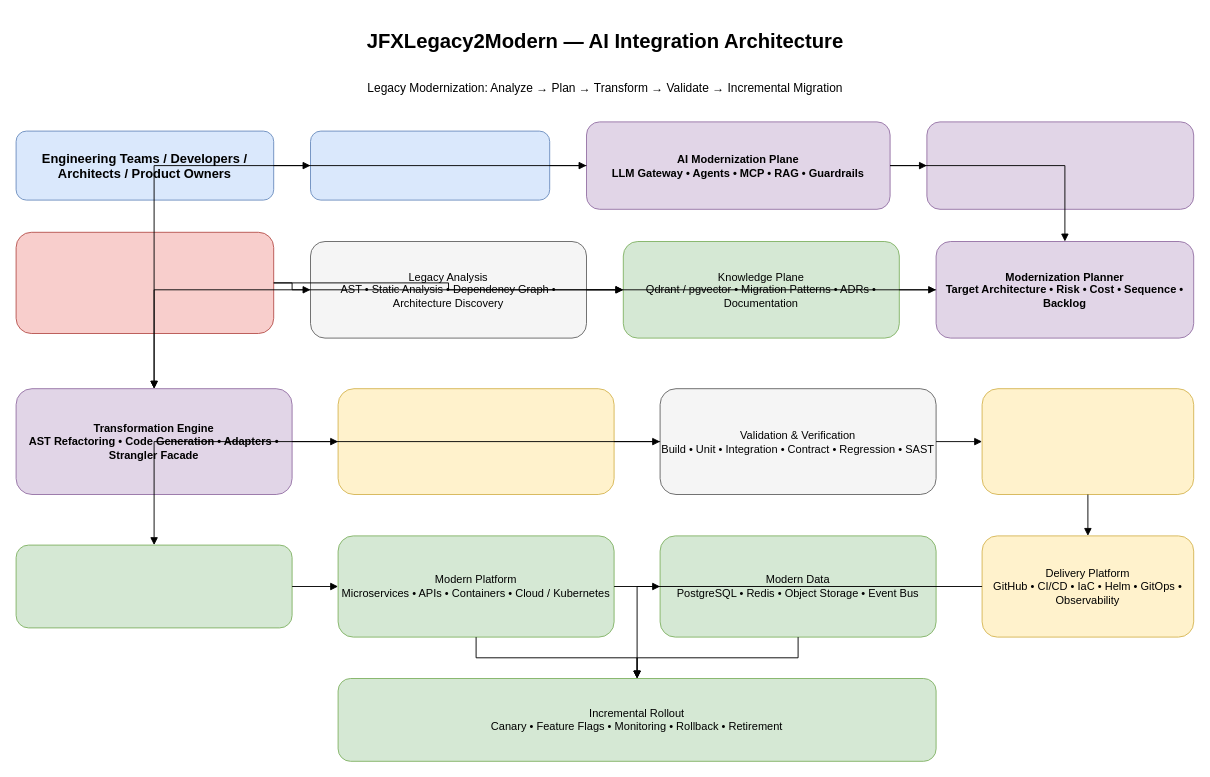
Some shapes in this 1210 by 777 pixel diagram are drawn without their labels. The shapes that lost their labels are listed below. From the top down, each one's centre as x and y in pixels, then its label:
point (430, 165): API Gateway + IAM OIDC • RBAC • Rate Limits • Audit
point (1060, 165): Open LLM Runtime Ollama / vLLM • Llama / Qwen / Mistral
point (144, 282): Legacy Intake Repositories • DB schemas • APIs • Docs • Binaries
point (475, 441): Human-in-the-Loop Review • Approval • PR Generation • Traceability
point (1087, 441): Security & Supply Chain SBOM • Dependency Scan • Secrets • Policy Gates
point (153, 586): Modernization Boundary API / Anti-Corruption Layer / Event Adapters
